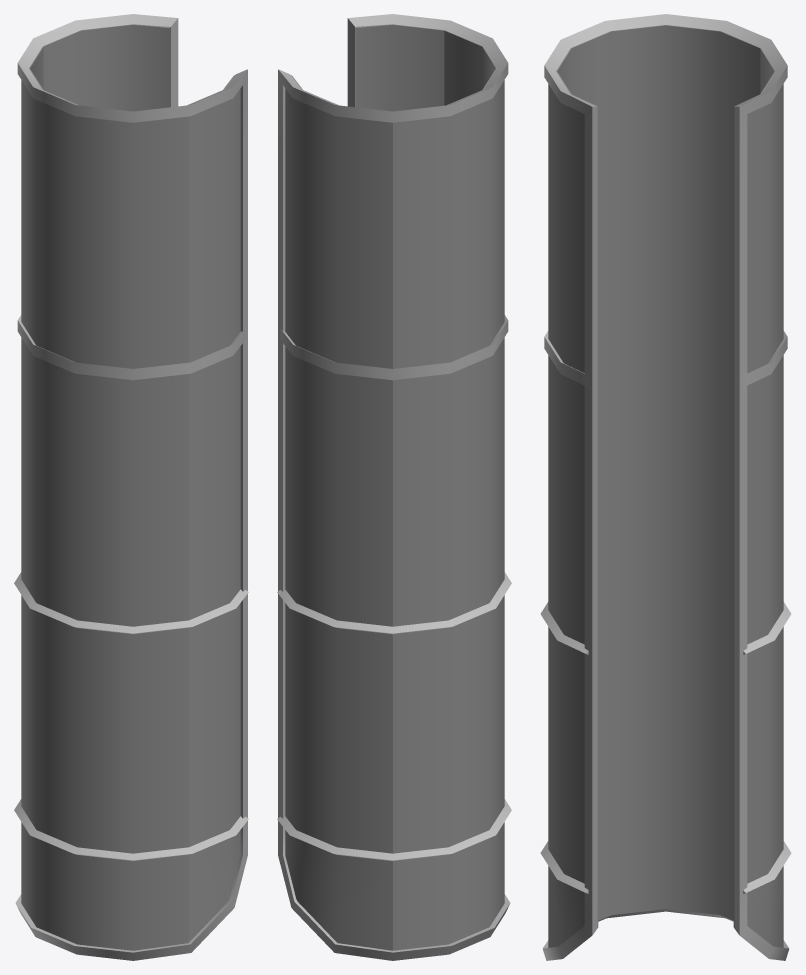
The model's file is minimi_pipe_straight.FBX.
3 renders of one model, left to right at view 1: azimuth 30°, elevation 25°; view 2: azimuth 150°, elevation 25°; view 3: azimuth 270°, elevation 25°, orthographic. The views are drawn at different scales.
Parts seen in each view (by area): view 1: minimi_pipe_x001, Shape002; view 2: minimi_pipe_x001, Shape002; view 3: minimi_pipe_x001, Shape002.
Boxes of the visible parts, <box> form: minimi_pipe_x001: <box>21,24,240,950</box>; Shape002: <box>14,14,248,960</box>; minimi_pipe_x001: <box>285,24,504,950</box>; Shape002: <box>277,14,511,960</box>; minimi_pipe_x001: <box>548,25,783,947</box>; Shape002: <box>540,14,791,960</box>.
Size of the model in its own units: 46.6 by 207 by 52.53.
Materials: 2 (1 with a texture image).
